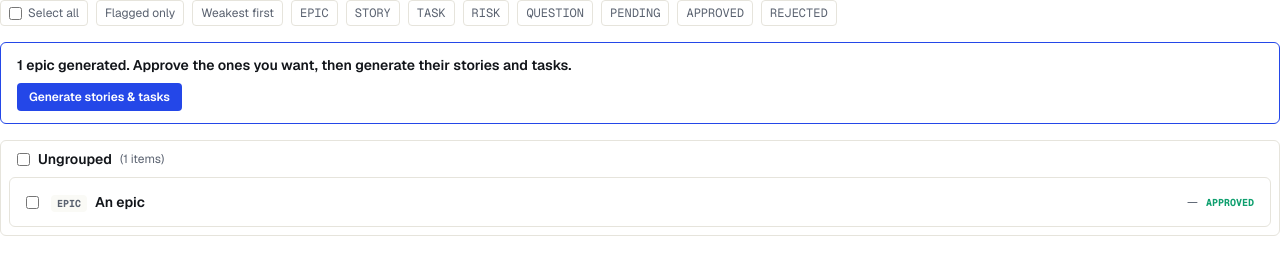
Test: ReviewQueue staged-generation banner › shows an error and does not refresh when the generate-downstream job itself fails
Click the button "Generate stories & tasks" at (99,97), box [17,83,182,111]
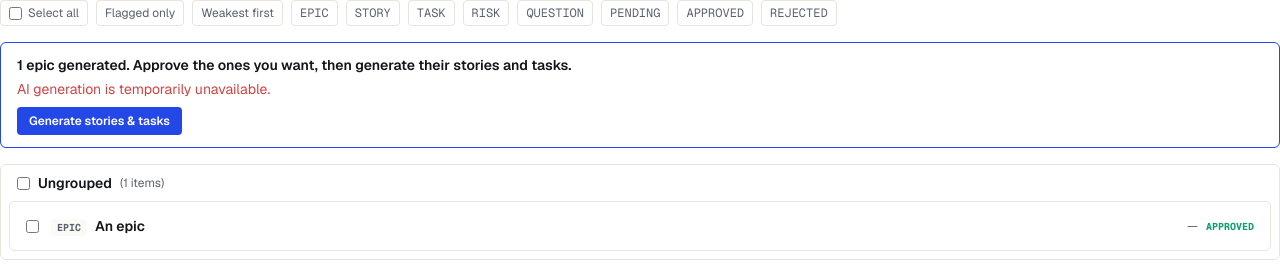
expect the text "AI generation is temporarily unavailable." is shown: met, box [17,80,270,98]
